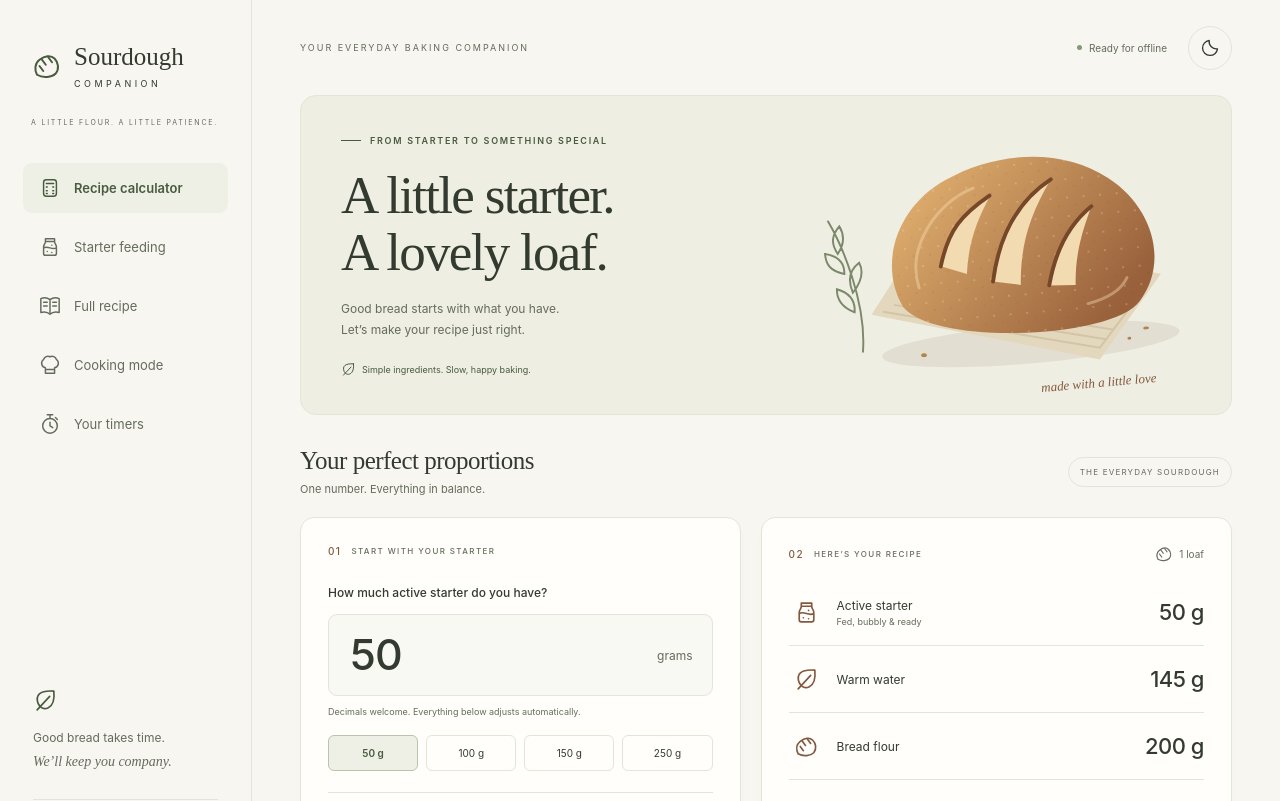
Test: baking screens › updates displayed ingredients and the full recipe
Replace the text in the field labelled "How much active starter do you have?" with "125" at x=498, y=655, box [348,627,647,683]
(page scrolled)
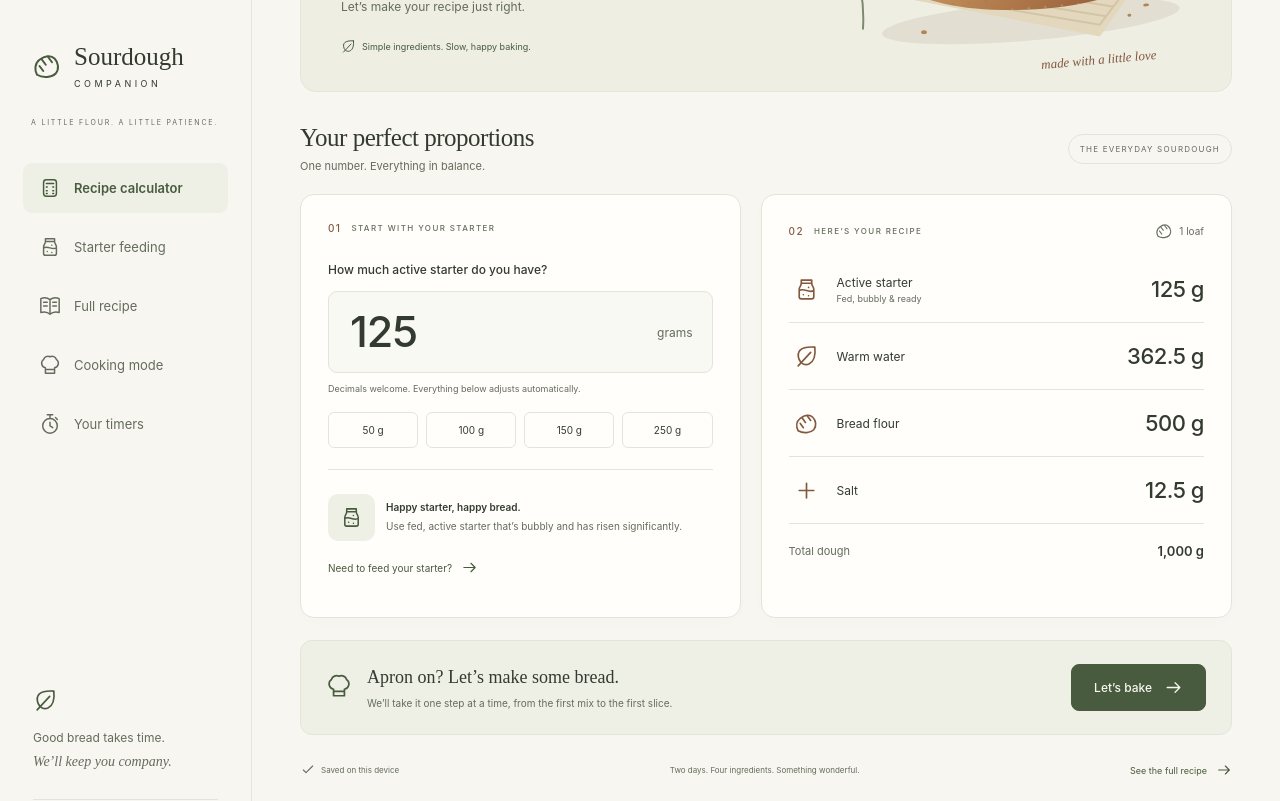
Result: the text "362.5 g" is shown at [1127,343,1204,369]
Click the button "See the full recipe" at x=1181, y=770, box [1130,748,1232,792]
(page scrolled)
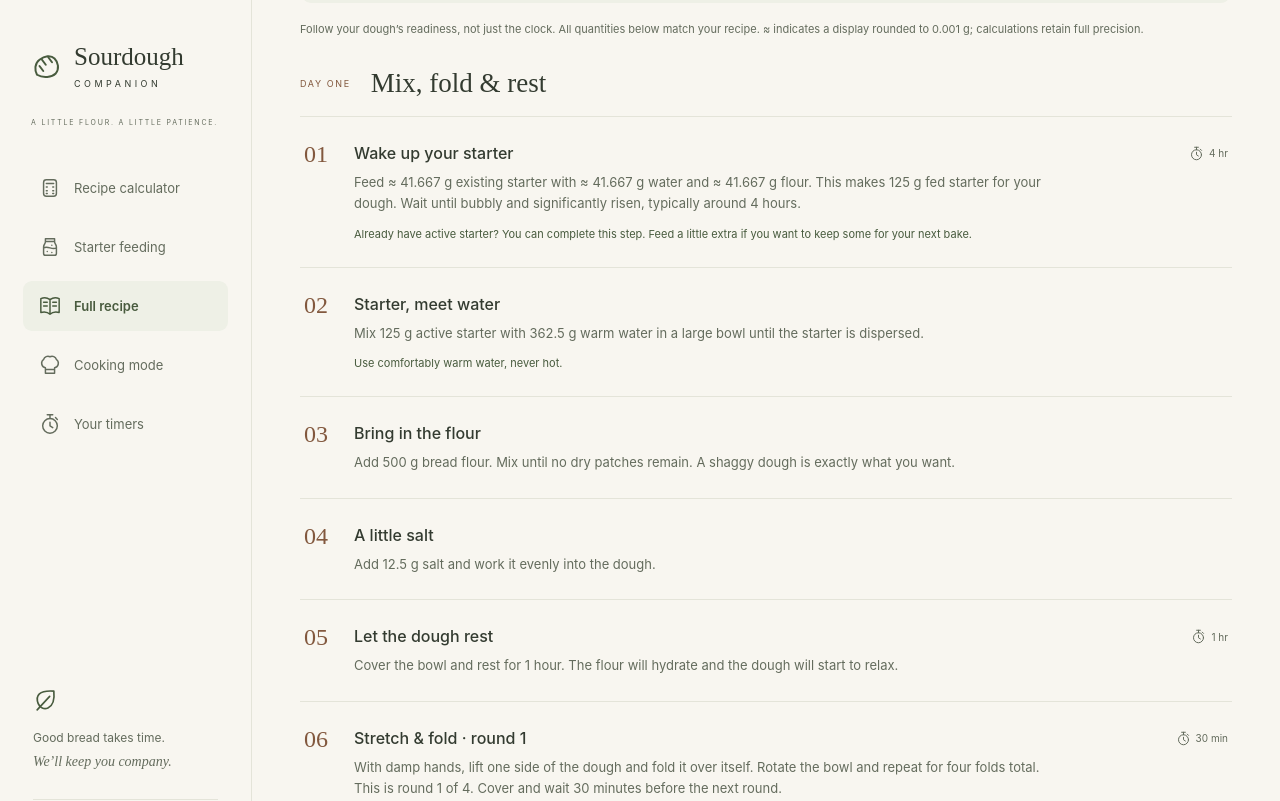
Result: the text "Mix 125 g active starter with 362.5 g warm water" is shown at [354,325,924,341]
Result: the text "Add 12.5 g salt and work it evenly into the dough." is shown at [354,556,656,572]
